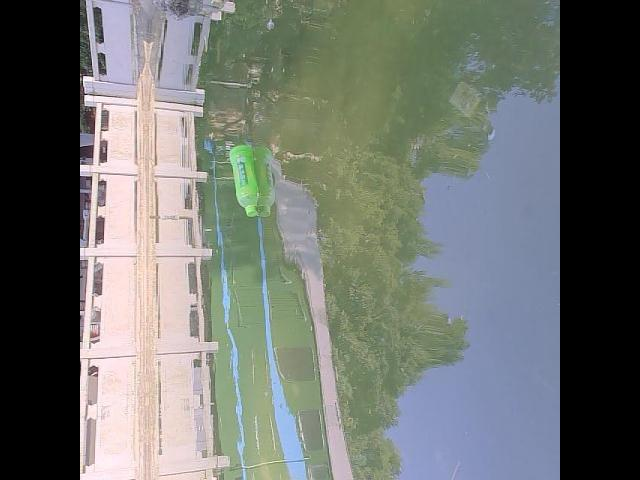Bottle: (228, 140, 262, 218)
